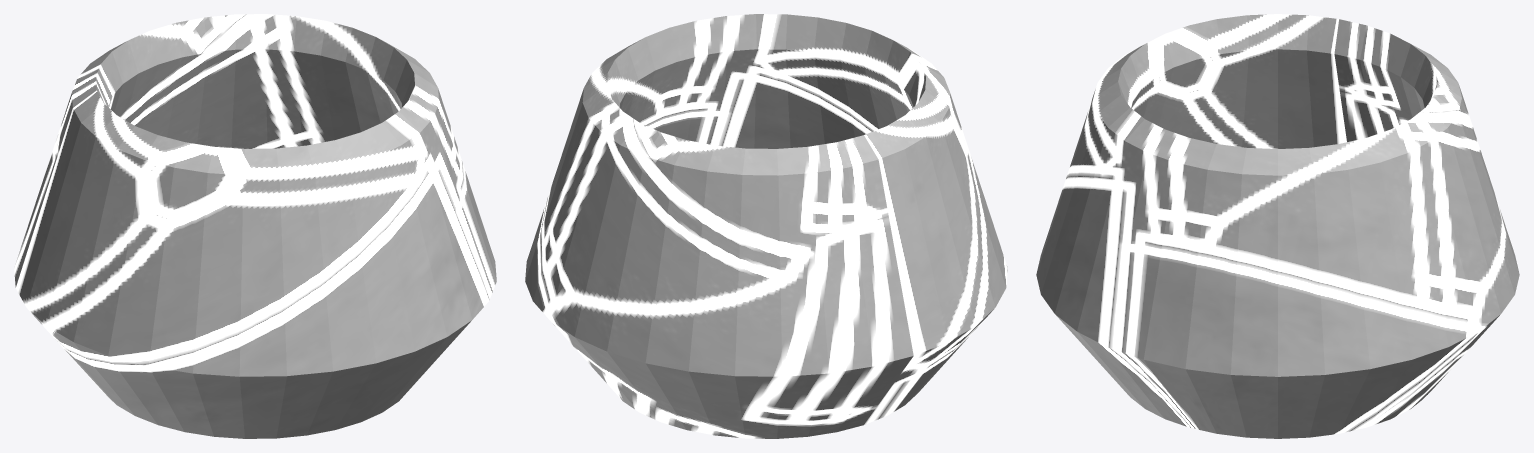
Rendered from cauldronpot.glb.
3 views of the same model, side by side, from view 1: azimuth 30°, elevation 25°; view 2: azimuth 150°, elevation 25°; view 3: azimuth 270°, elevation 25° (orthographic).
Parts seen in each view (by area): view 1: Pot; view 2: Pot; view 3: Pot.
Part boxes in pixels (x1,y1,x2,y2): Pot: [14, 14, 496, 438]; Pot: [525, 14, 1007, 438]; Pot: [1036, 14, 1519, 438].
Size of the model in its own units: 3.02 by 2 by 3.02.
Materials: 1 (1 with a texture image).
